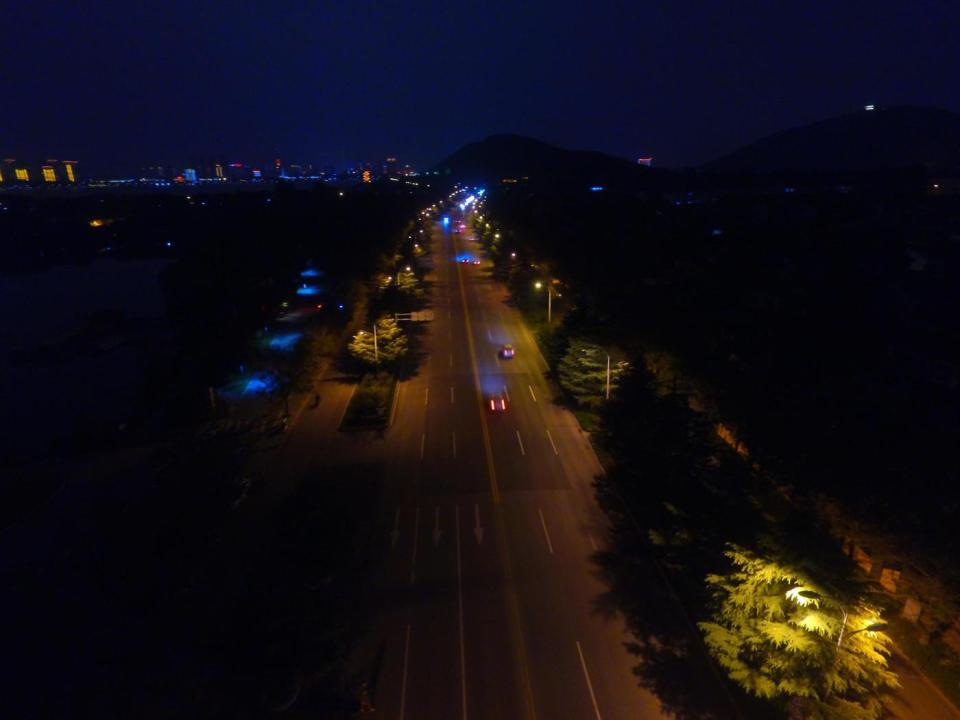car: (223, 476, 249, 512), (488, 390, 506, 415), (502, 344, 514, 357), (472, 257, 480, 266), (468, 234, 475, 241), (458, 223, 466, 229), (462, 257, 469, 263), (454, 229, 461, 235), (454, 218, 460, 224), (443, 216, 450, 221)
